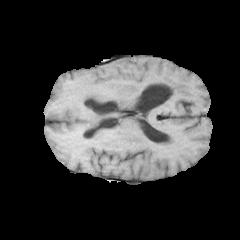glioma: (50, 72, 193, 127)
